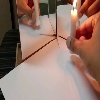fire: (73, 0, 77, 12)
